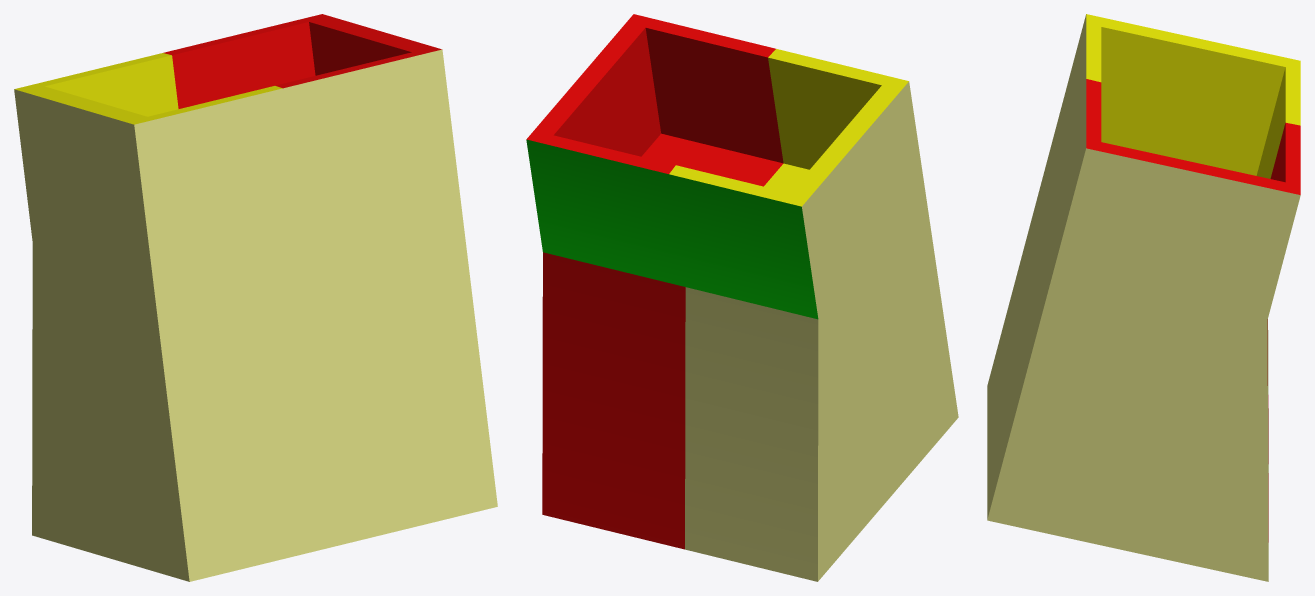
The model's file is sari_kirmizi_kutu.fbx.
The picture shows the model from 3 angles, left to right: view 1: azimuth 30°, elevation 25°; view 2: azimuth 150°, elevation 25°; view 3: azimuth 270°, elevation 25°; orthographic projection. The views are drawn at different scales.
Visible parts, largest first — view 1: pCube14; view 2: pCube14; view 3: pCube14.
Boxes of the visible parts, bbox=[...] form: pCube14: bbox=[14, 14, 497, 581]; pCube14: bbox=[526, 14, 958, 581]; pCube14: bbox=[987, 14, 1300, 581].
Size of the model in its own units: 4.33 by 6.51 by 4.27.
